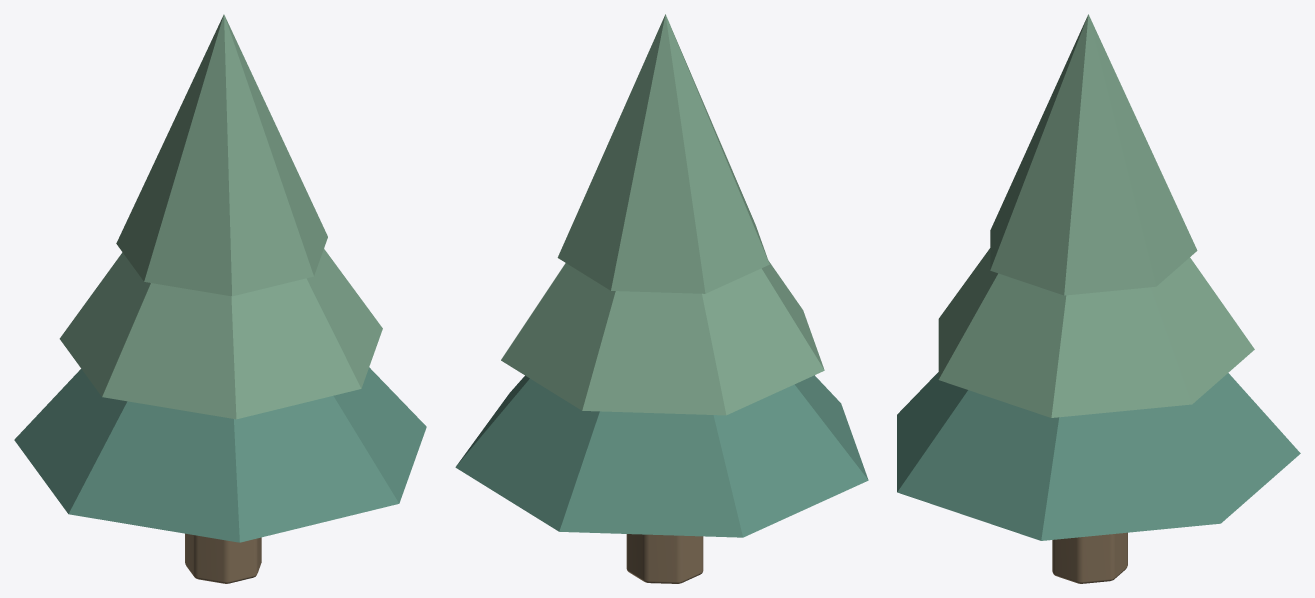
The model's file is Pine.fbx.
3 views of the same model, side by side, from view 1: azimuth 30°, elevation 25°; view 2: azimuth 150°, elevation 25°; view 3: azimuth 270°, elevation 25° (orthographic).
Parts seen in each view (by area): view 1: Pine canopy, Pine canopy.001, Pine canopy.002, Trunk; view 2: Pine canopy, Pine canopy.001, Pine canopy.002, Trunk; view 3: Pine canopy, Pine canopy.001, Pine canopy.002, Trunk.
Boxes of the visible parts, left/top/right/bottom form: Pine canopy: left=14, top=367, right=426, bottom=542; Pine canopy.001: left=59, top=249, right=382, bottom=419; Pine canopy.002: left=116, top=14, right=327, bottom=296; Trunk: left=185, top=533, right=261, bottom=583; Pine canopy: left=455, top=375, right=868, bottom=537; Pine canopy.001: left=501, top=261, right=824, bottom=415; Pine canopy.002: left=557, top=14, right=769, bottom=293; Trunk: left=626, top=534, right=703, bottom=583; Pine canopy: left=897, top=372, right=1300, bottom=540; Pine canopy.001: left=938, top=248, right=1254, bottom=417; Pine canopy.002: left=990, top=14, right=1197, bottom=295; Trunk: left=1052, top=532, right=1127, bottom=583.
Bounding box in the file's own units: 144 × 214 × 141.
